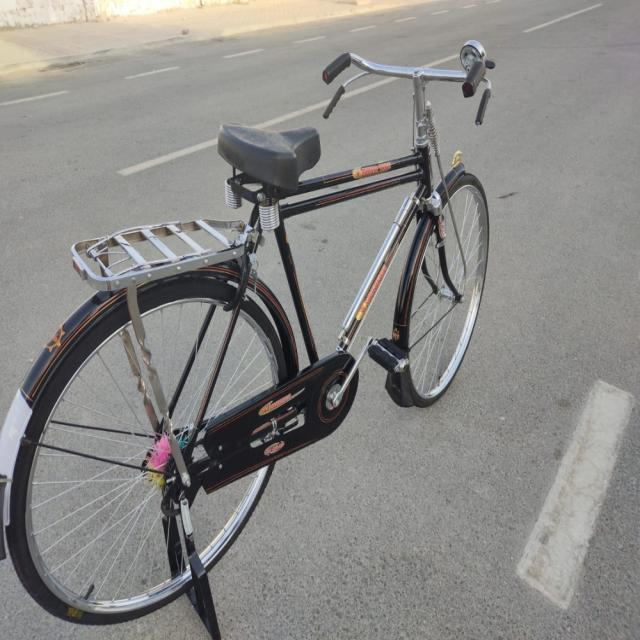bicycle: (0, 79, 542, 546)
